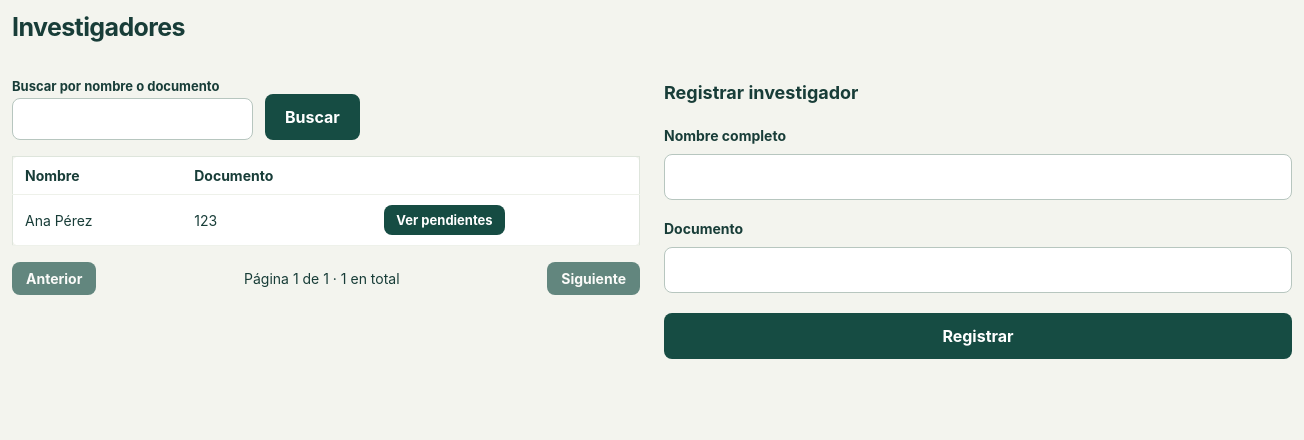
Test: searches researchers with the typed term, shows pending loans and registers a new one
The width and height of the screenshot is (1304, 440).
Check: the text "Ana Pérez" is shown, box [12,194,182,246]
Type "ana" into the field labelled "Buscar por nombre o documento" at (132, 119), box [12,98,253,140]
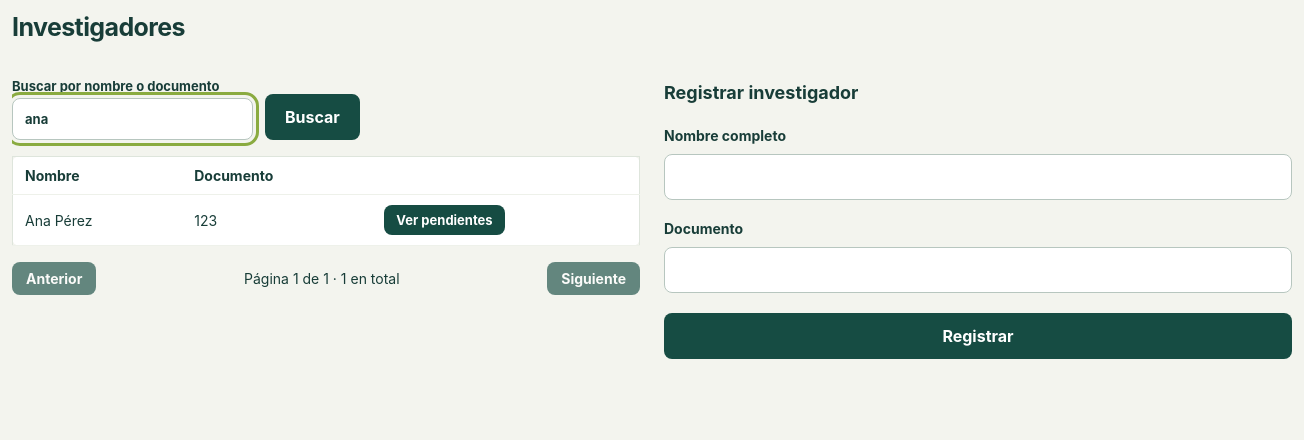
Click the button "Buscar" at (312, 117), box [265,94,360,140]
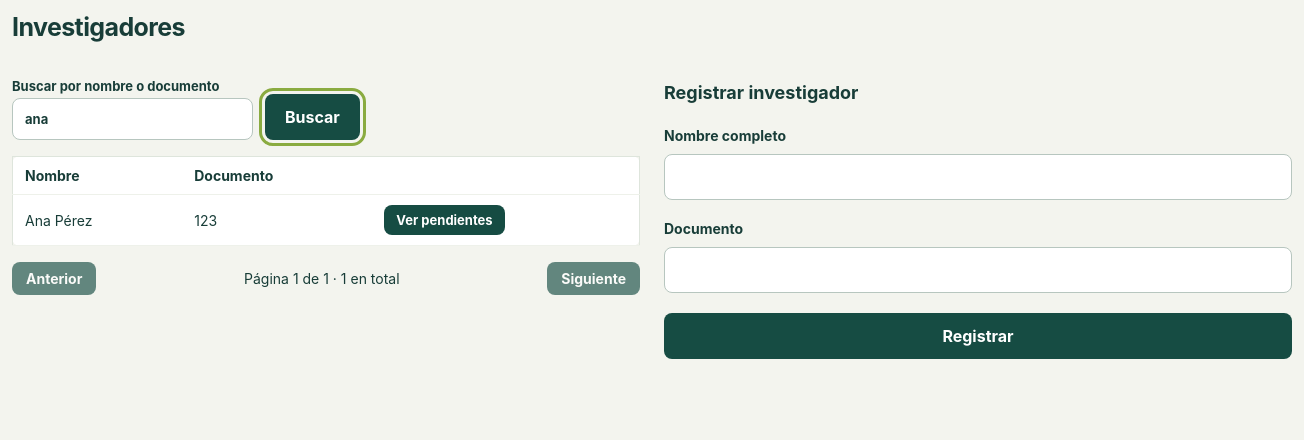
Click the button with aria-label "Ver pendientes de Ana Pérez" at (444, 220), box [384,205,505,235]
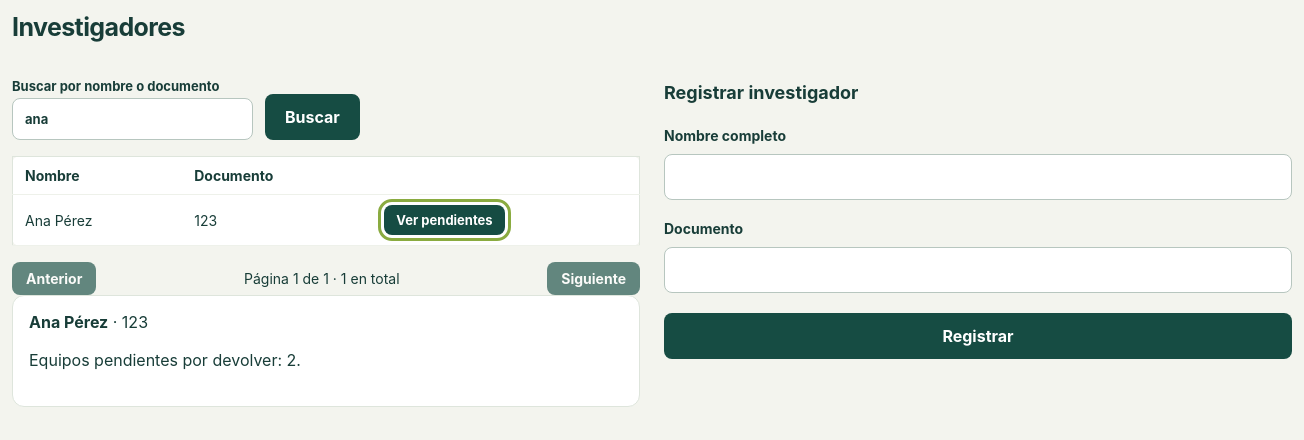
Check: the text "Equipos pendientes por devolver: 2." is shown, box [29,350,301,370]
Type "  Luis Gómez " into the field labelled "Nombre completo" at (978, 177), box [664,154,1292,200]
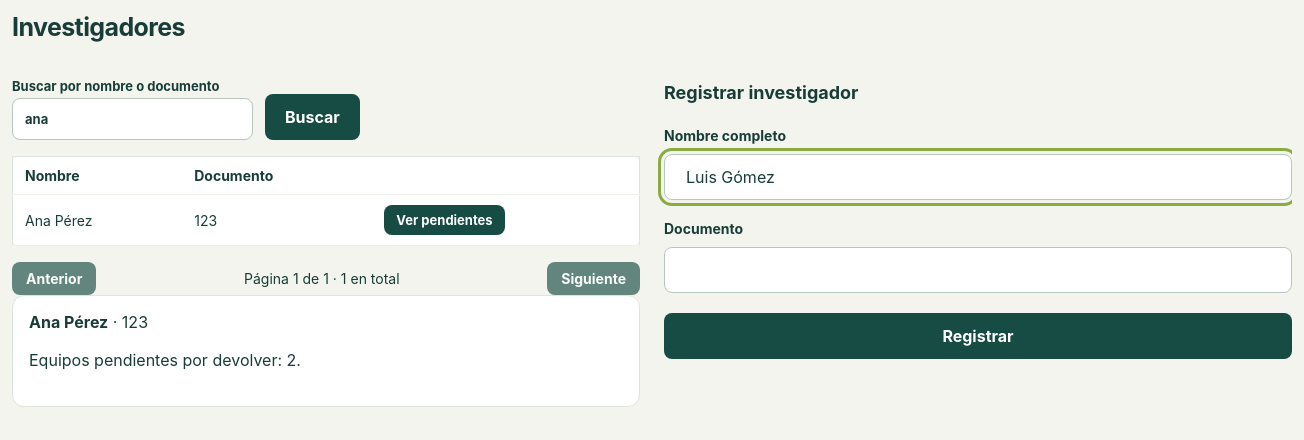
Type "999" into the field labelled "Documento" at (978, 270), box [664,247,1292,293]
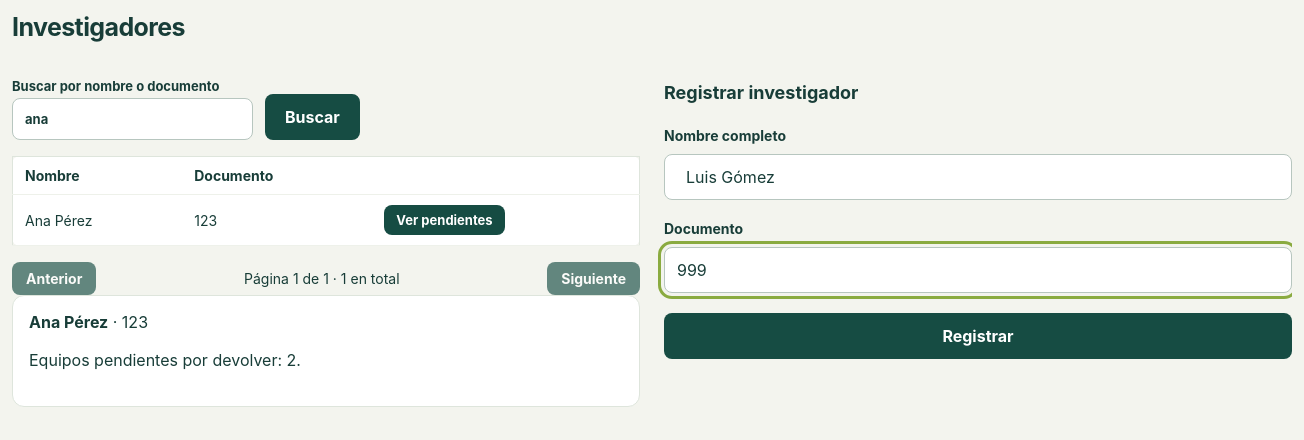
Click the button "Registrar" at (978, 336), box [664,313,1292,359]
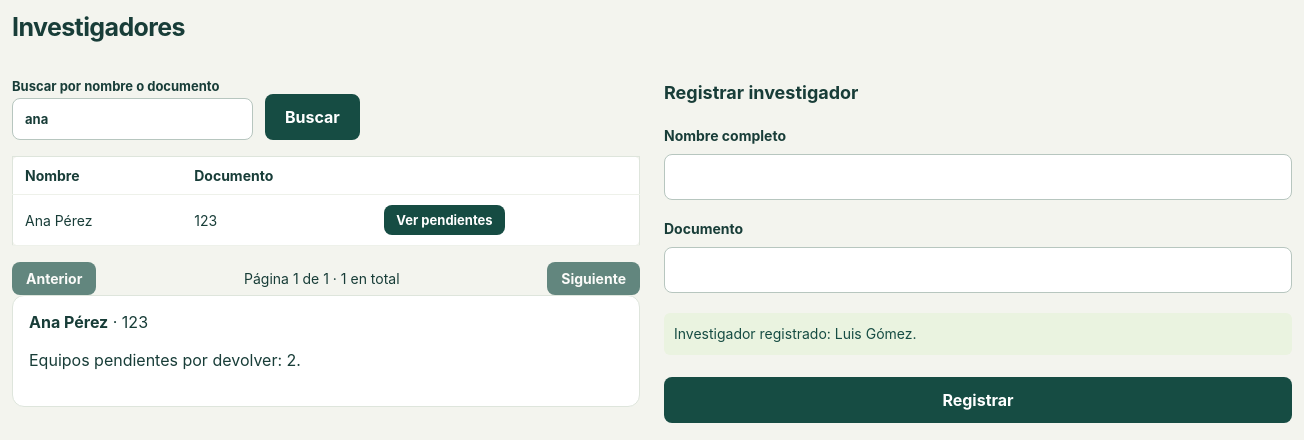
Check: the text "Investigador registrado: Luis Gómez." is shown, box [664,313,1292,355]
